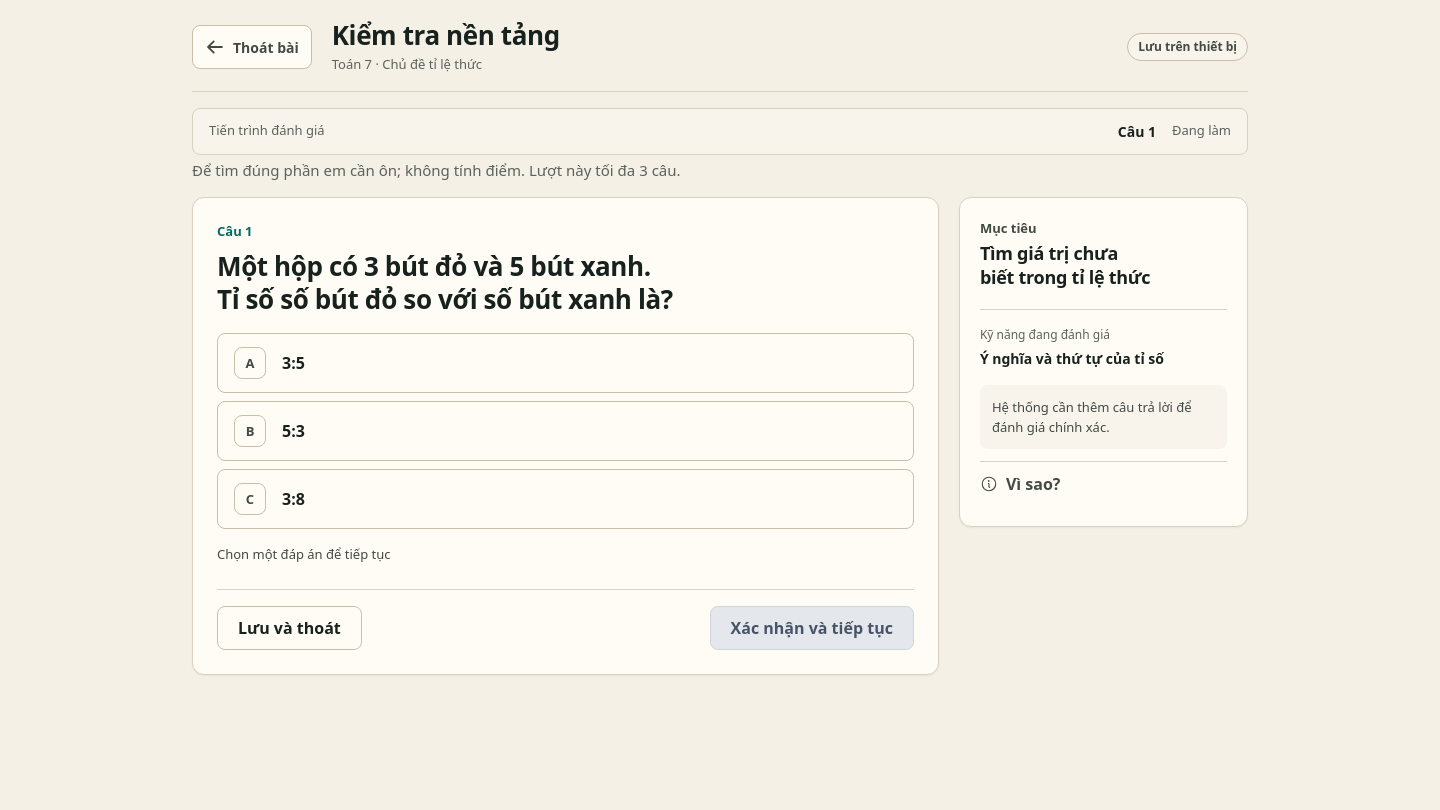
it: NekoPath MVP entry and shell (class-roll dropdown auth, stubbed transport) › keeps the adaptive check-in focused and uses student-facing language
The image size is (1440, 810).
Check: the heading "Kiểm tra nền tảng" is shown, box [332,17,560,53]
Check: the link "Thoát bài" is shown, box [192,25,312,69]
Click the radio button labelled "A 3:5".
click(250, 363)  # box [217,333,914,393]
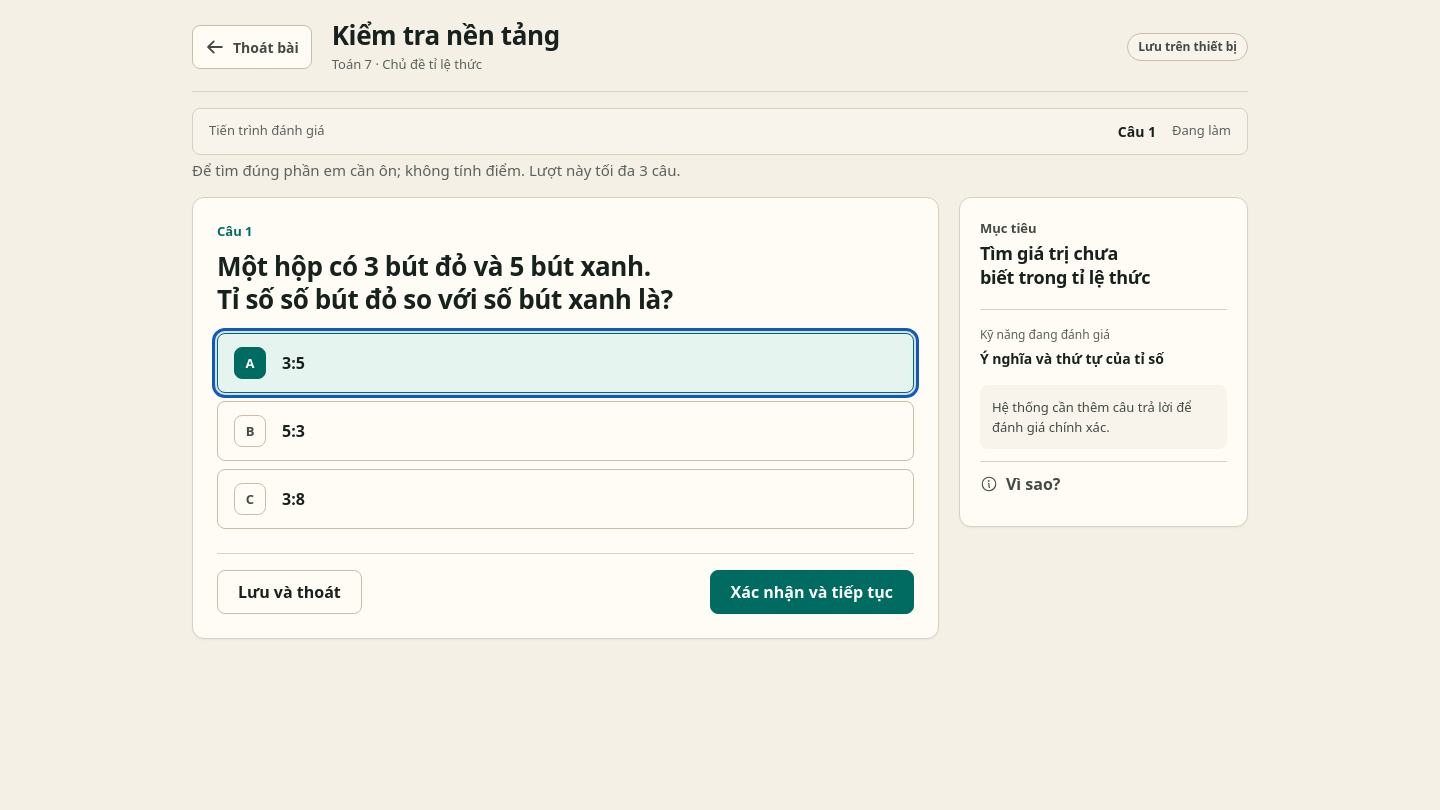
Check: the button "Xác nhận và tiếp tục" is enabled
Check: the text "Chọn một đáp án để tiếp tục" is gone
Click the button "Xác nhận và tiếp tục".
click(812, 592)  # box [710,570,914,614]
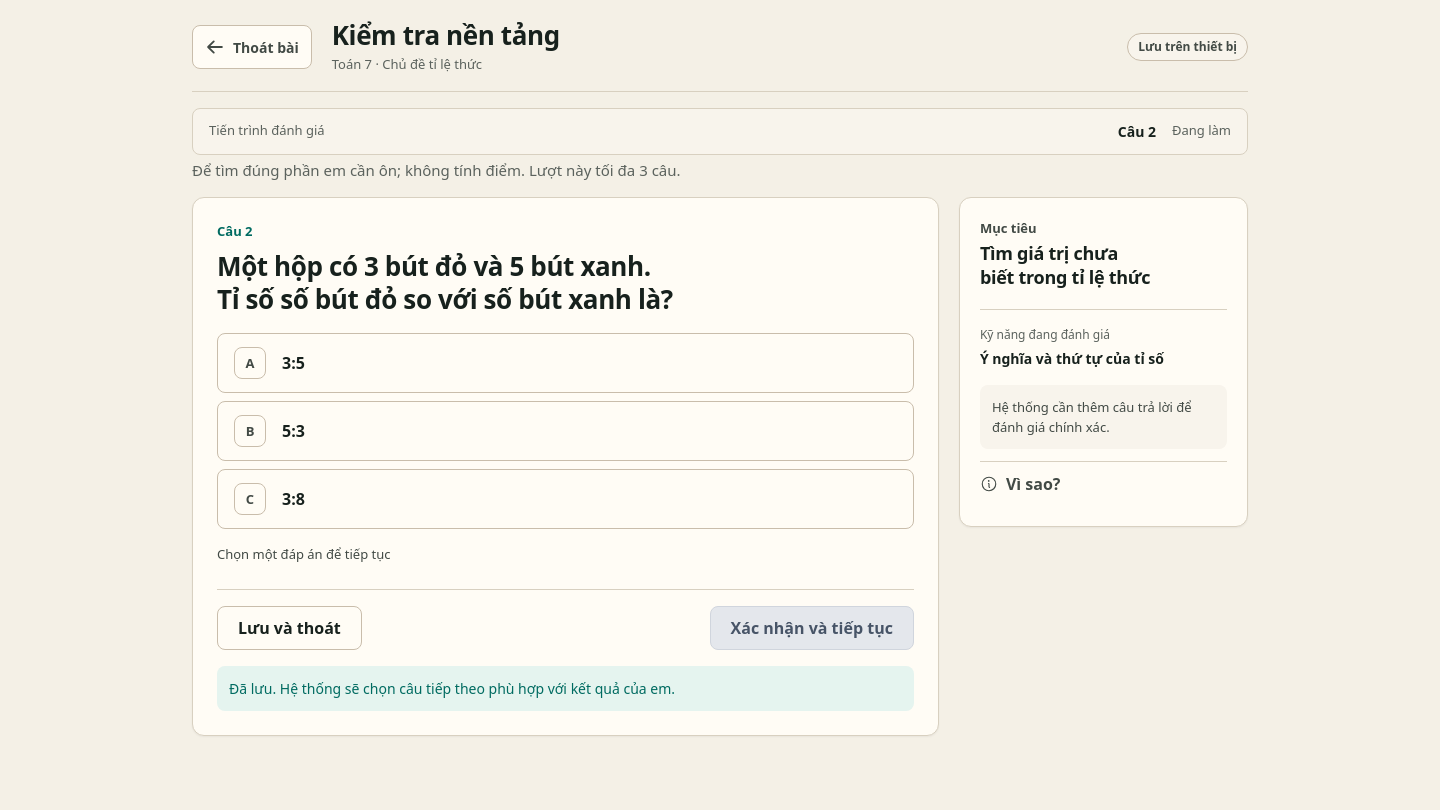
Check: the text "Đã lưu. Hệ thống sẽ chọn câu tiếp theo phù hợp với kết quả của em." is shown, box [217,666,914,711]
